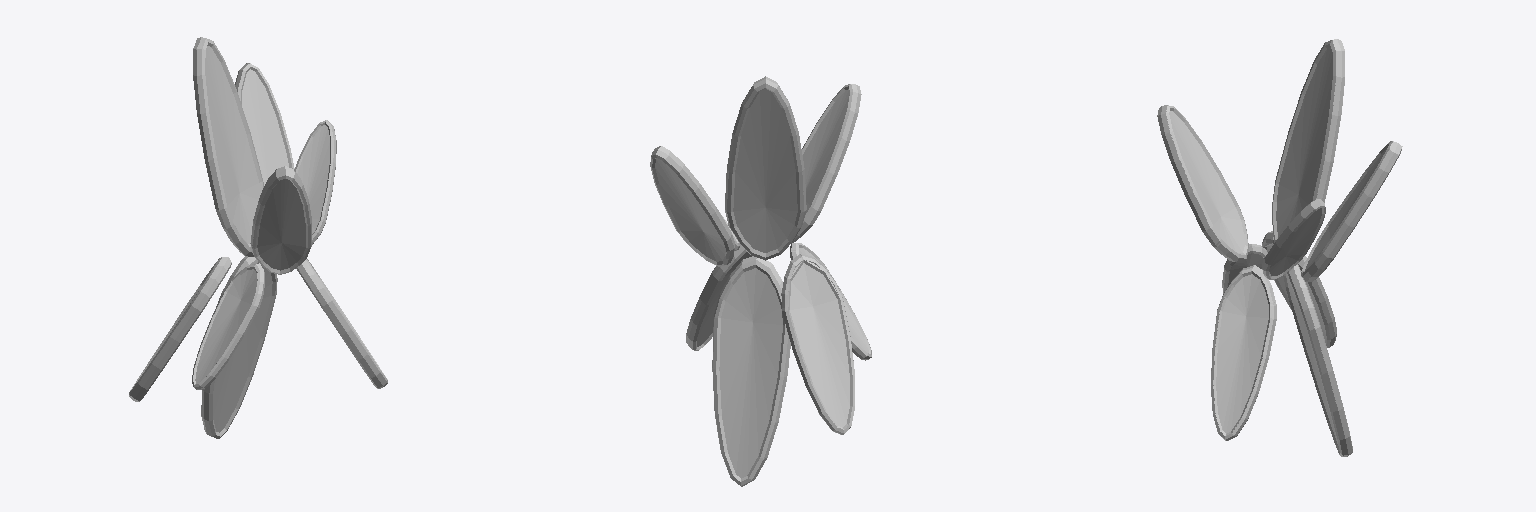
File: WEIRDBUTTERFLY.obj
3 renders of one model, left to right at view 1: azimuth 30°, elevation 25°; view 2: azimuth 150°, elevation 25°; view 3: azimuth 270°, elevation 25°, orthographic.
Parts seen in each view (by area): view 1: SUB1_ShellFly1_1, _ShellFly1_1, _ShellFly1_2; view 2: SUB1_ShellFly1_2, _ShellFly1_2, _ShellFly1_1; view 3: SUB1_ShellFly1_1, _ShellFly1_1, _ShellFly1_2, SUB1_ShellFly1_2.
Boxes of the visible parts, x1,y1,x2,y2 form: SUB1_ShellFly1_1: [195, 46, 329, 432]; _ShellFly1_1: [129, 37, 387, 438]; _ShellFly1_2: [129, 37, 373, 433]; SUB1_ShellFly1_2: [655, 89, 849, 478]; _ShellFly1_2: [650, 77, 871, 486]; _ShellFly1_1: [662, 76, 871, 475]; SUB1_ShellFly1_1: [1216, 47, 1386, 443]; _ShellFly1_1: [1157, 40, 1393, 456]; _ShellFly1_2: [1166, 39, 1402, 456]; SUB1_ShellFly1_2: [1169, 111, 1321, 285].
Size of the model in its own units: 0.8735 by 1.63 by 0.886.